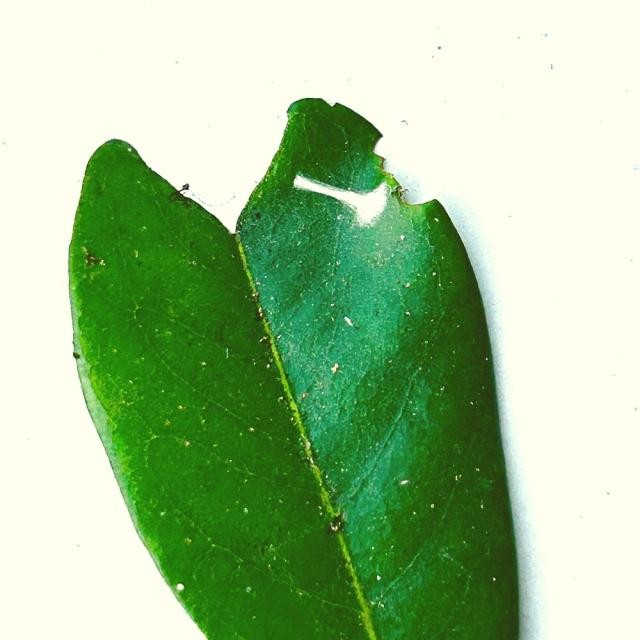Deficiency Leaf: (71, 136, 269, 250), (199, 94, 333, 145), (293, 167, 405, 226), (291, 120, 349, 188)
Lychee: (69, 99, 518, 639)
